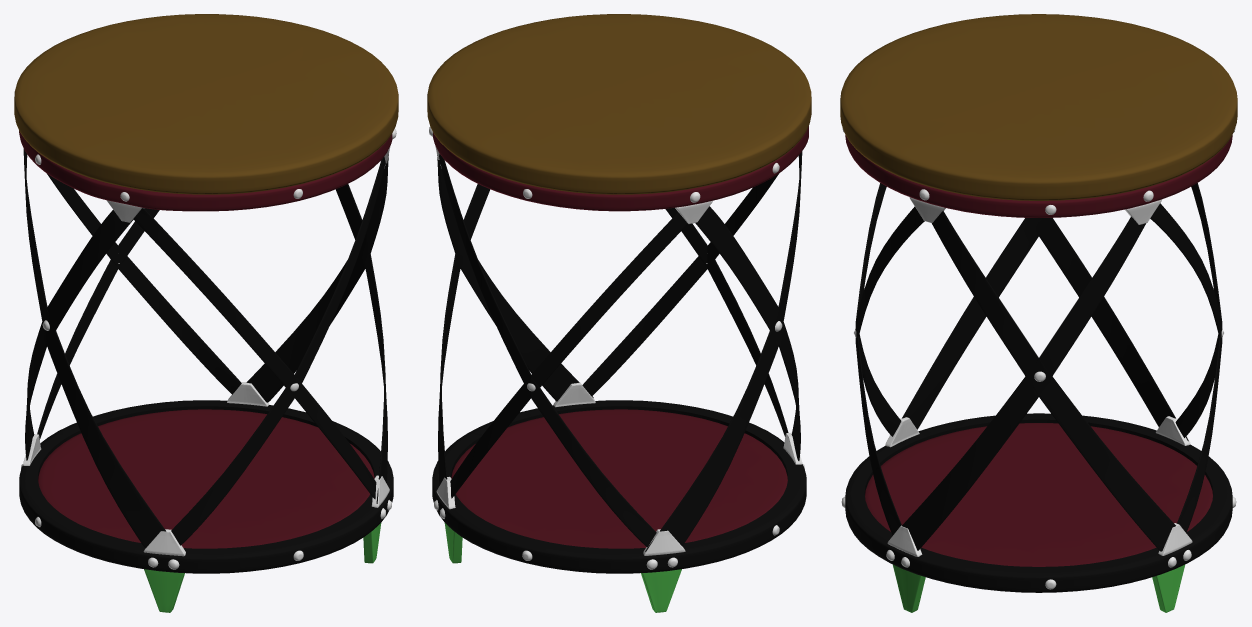
Rendered from FairView.glb.
3 views of the same model, side by side, from view 1: azimuth 30°, elevation 25°; view 2: azimuth 150°, elevation 25°; view 3: azimuth 270°, elevation 25° (orthographic). The views are drawn at different scales.
Parts seen in each view (by area): view 1: Seat, Frame, Seat lower, Screw, Stand; view 2: Seat, Frame, Seat lower, Screw, Stand; view 3: Seat, Frame, Seat lower, Screw, Stand.
Boxes of the visible parts, bbox=[...] form: Seat: bbox=[14, 14, 398, 194]; Frame: bbox=[19, 149, 393, 573]; Seat lower: bbox=[19, 130, 392, 548]; Screw: bbox=[21, 129, 396, 569]; Stand: bbox=[144, 523, 381, 612]; Seat: bbox=[427, 14, 811, 194]; Frame: bbox=[432, 151, 806, 573]; Seat lower: bbox=[433, 126, 808, 548]; Screw: bbox=[429, 127, 804, 569]; Stand: bbox=[444, 523, 681, 612]; Seat: bbox=[840, 14, 1237, 200]; Frame: bbox=[845, 183, 1232, 592]; Seat lower: bbox=[845, 135, 1232, 566]; Screw: bbox=[841, 127, 1236, 589]; Stand: bbox=[892, 564, 1185, 612].
Size of the model in its own units: 0.508 by 0.6557 by 0.508.
